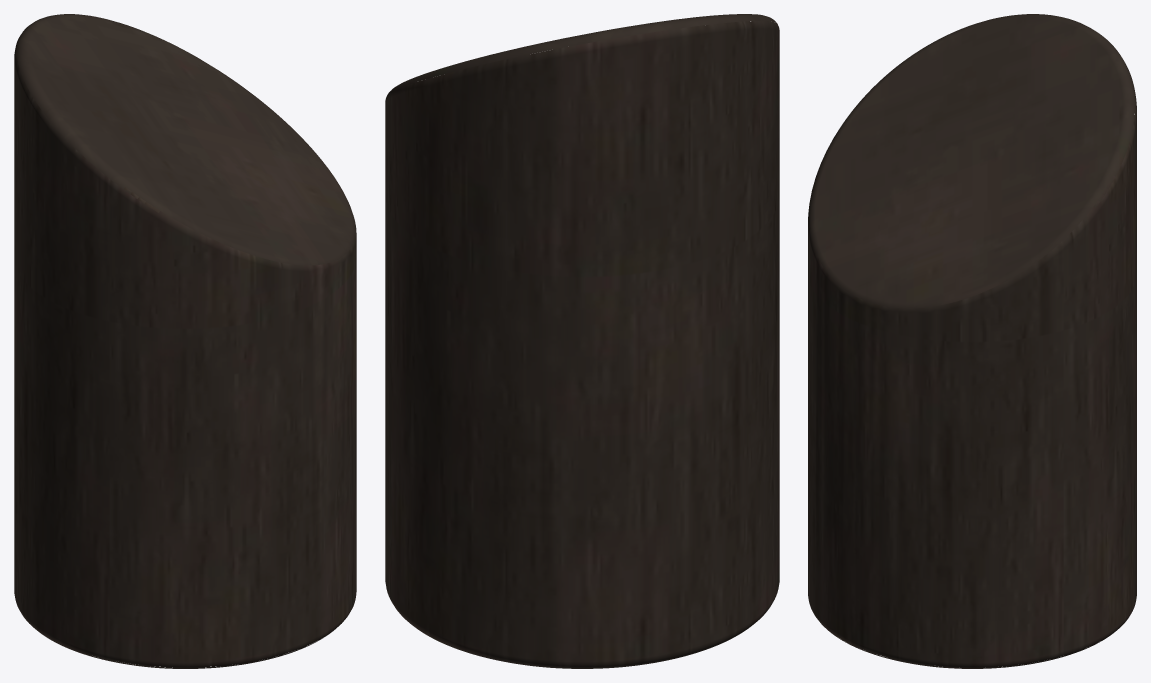
Rendered from cylindra_strelec_cerny.glb.
3 renders of one model, left to right at view 1: azimuth 30°, elevation 25°; view 2: azimuth 150°, elevation 25°; view 3: azimuth 270°, elevation 25°, orthographic. The views are drawn at different scales.
Parts seen in each view (by area): view 1: Cylindra_Střelec_černý; view 2: Cylindra_Střelec_černý; view 3: Cylindra_Střelec_černý.
Part boxes in pixels (<box>): Cylindra_Střelec_černý: <box>14,14,356,668</box>; Cylindra_Střelec_černý: <box>385,14,779,668</box>; Cylindra_Střelec_černý: <box>808,14,1136,668</box>.
Size of the model in its own units: 0.028 by 0.05 by 0.028.
Materials: 2 (2 with a texture image).
